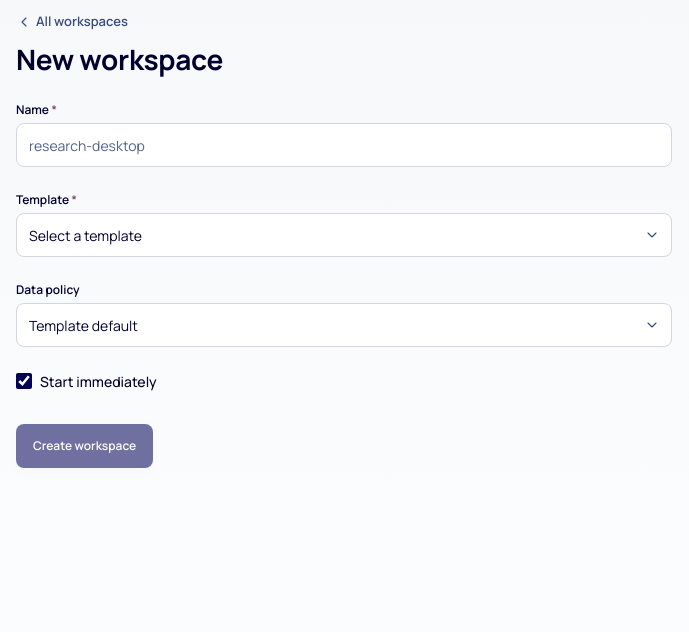
Test: CreateWorkspacePage › create: QUOTA_NOT_CONFIGURED shows its own guidance
Type "my-box" into the field labelled "Name *" at {"x": 344, "y": 145}, box [16,123,672,167]
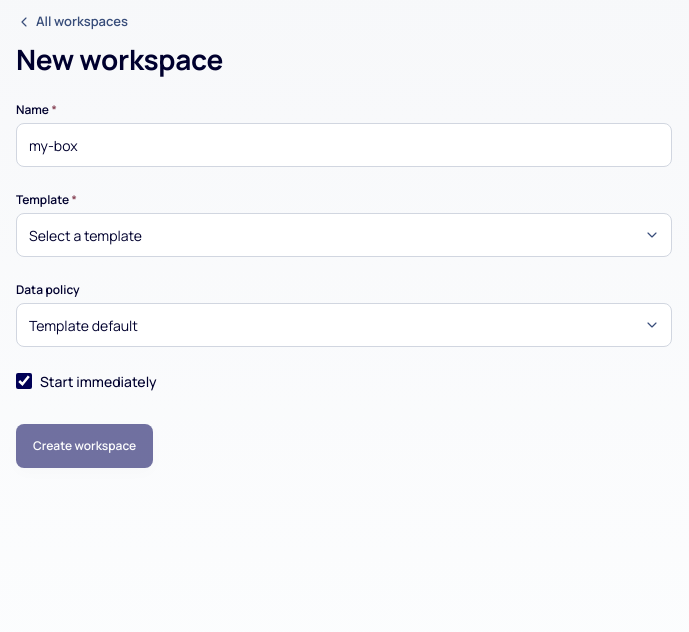
Select "linux-firefox-desktop (rev 7, Linux container)" in the dropdown labelled "Template *" at {"x": 344, "y": 235}, box [16,213,672,257]
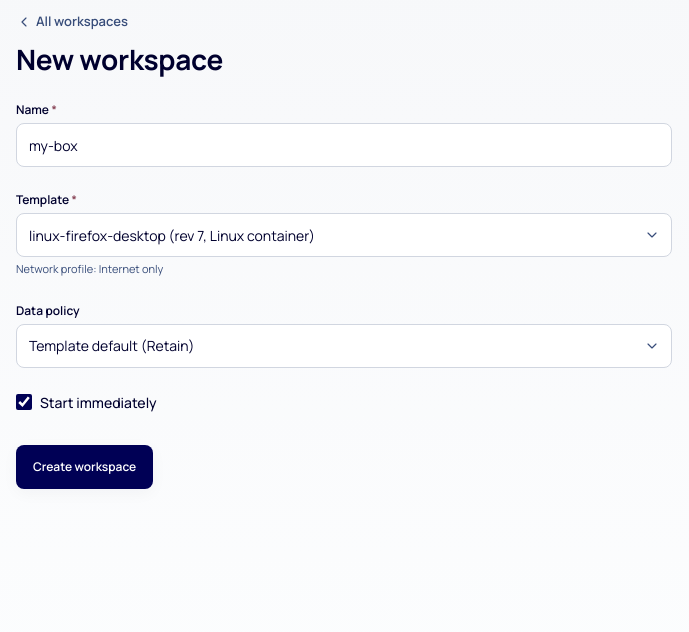
Click the button "Create workspace" at {"x": 85, "y": 466}, box [16,444,153,488]
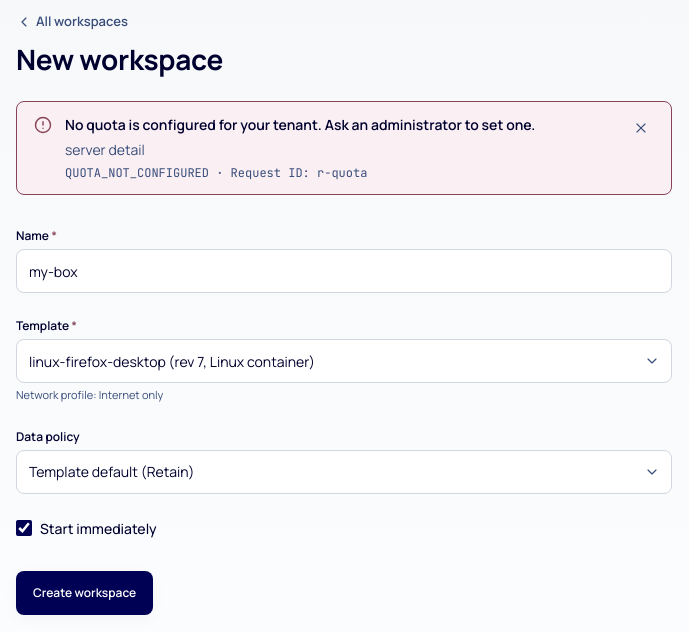
Expected: the message shows "QUOTA_NOT_CONFIGURED", [65,165,367,181]
Expected: the message shows "No quota is configured for your tenant. Ask an administrator to set one.", [65,115,535,134]
